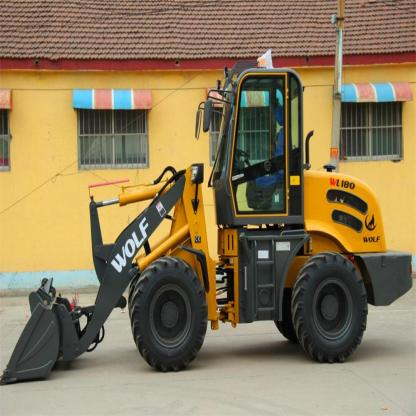bull_dozer/loader/grader: (2, 50, 416, 402)
